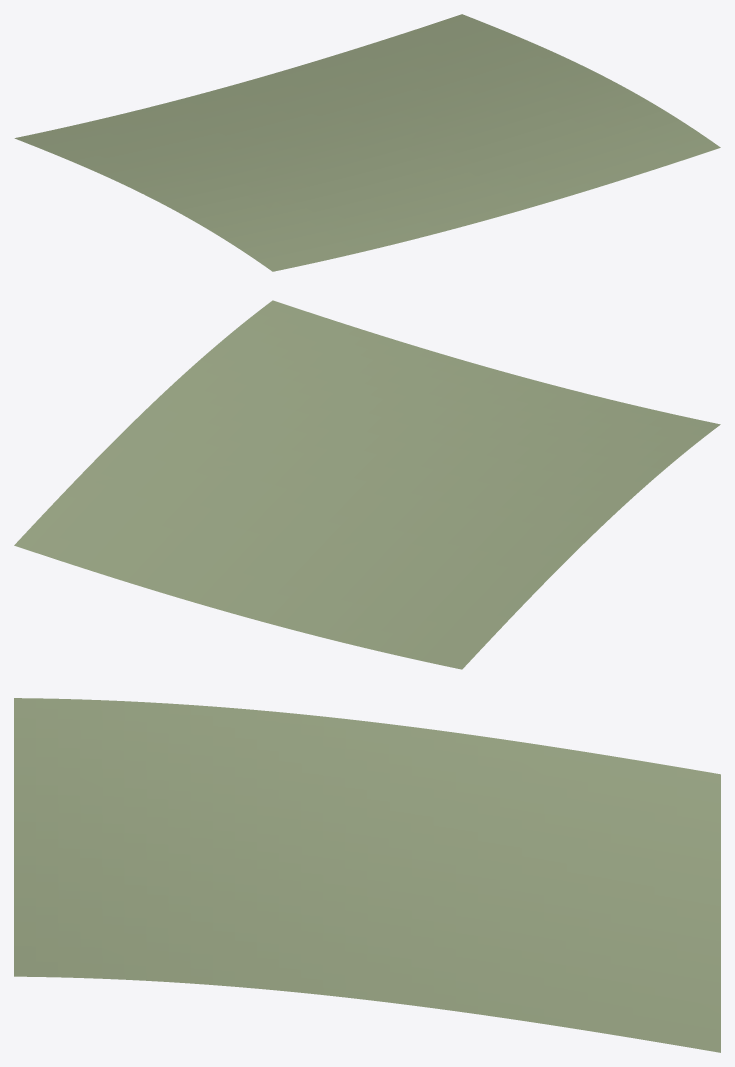
The model's file is valley-13-14.glb.
The picture shows the model from 3 angles, top to bottom: view 1: azimuth 30°, elevation 25°; view 2: azimuth 150°, elevation 25°; view 3: azimuth 270°, elevation 25°; orthographic projection. The views are drawn at different scales.
Parts seen in each view (by area): view 1: valley-13-14; view 2: valley-13-14; view 3: valley-13-14.
Part boxes in pixels (x1=…): valley-13-14: x1=14, y1=14, x2=720, y2=271; valley-13-14: x1=14, y1=300, x2=720, y2=669; valley-13-14: x1=14, y1=698, x2=720, y2=1052.
Size of the model in its own units: 256 by 39.7 by 256.
